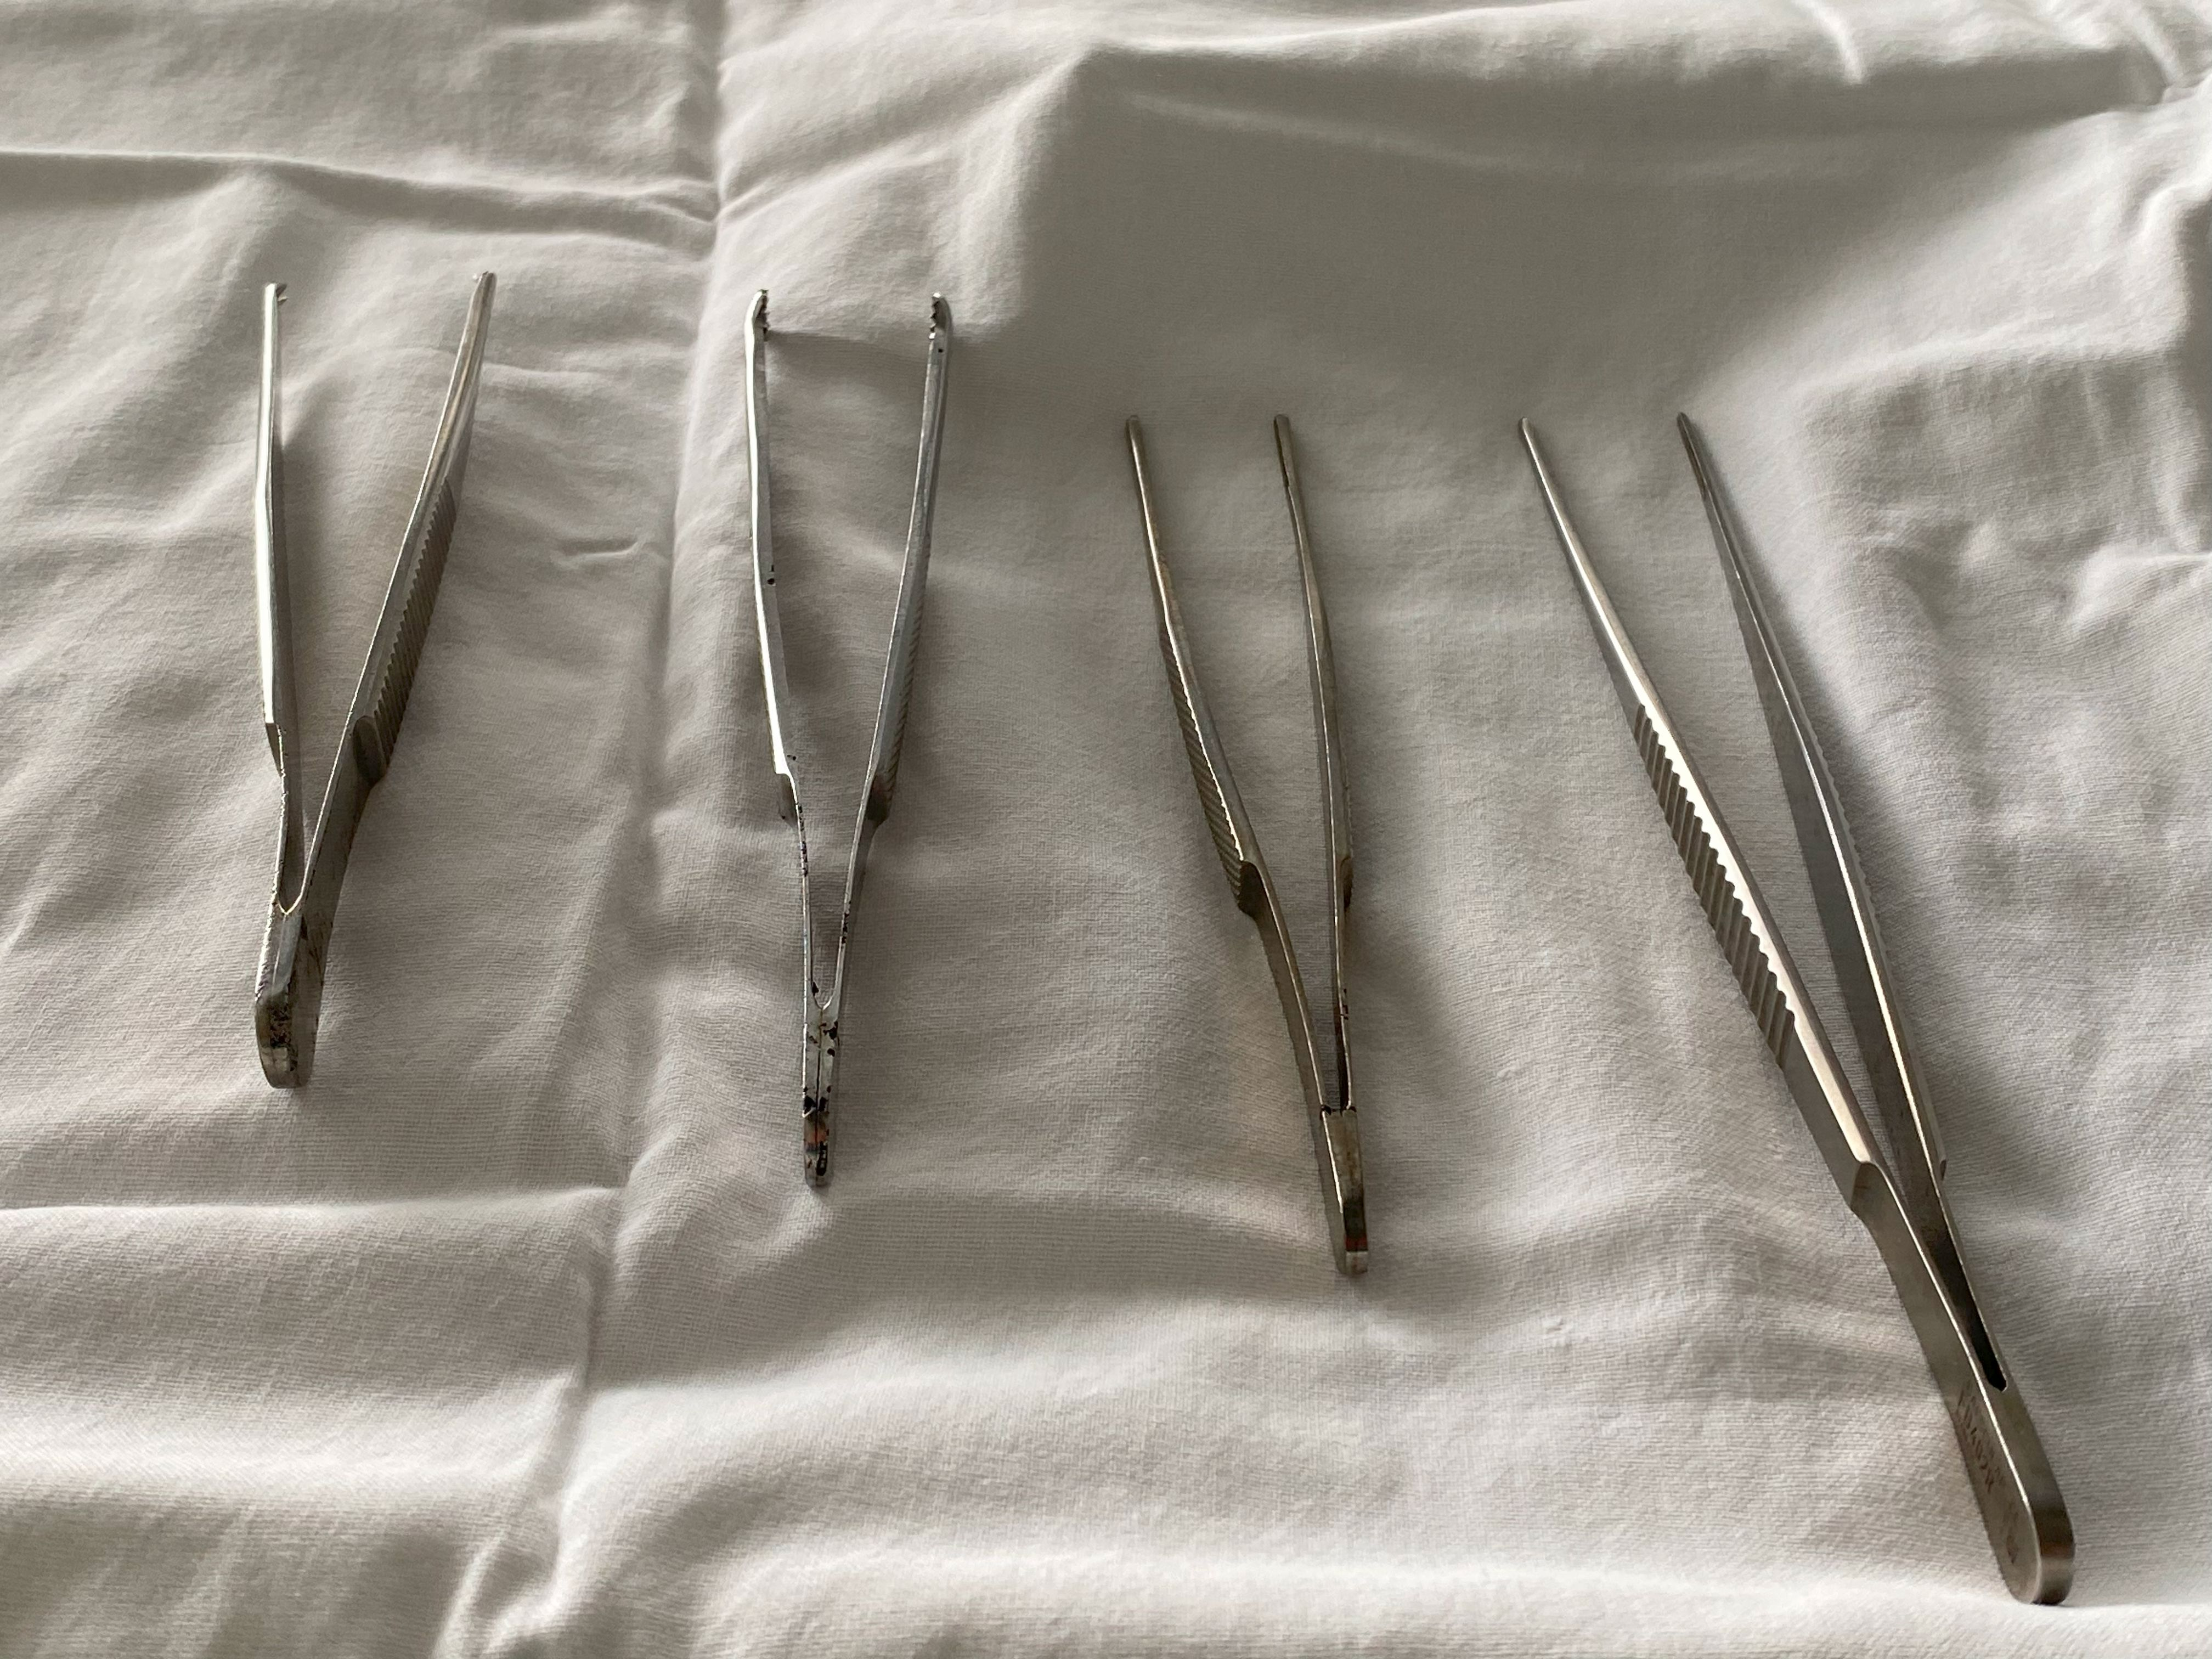tweezers: (1519, 415, 2074, 1605), (1127, 416, 1367, 1274), (254, 272, 495, 1087), (745, 291, 953, 1188)
